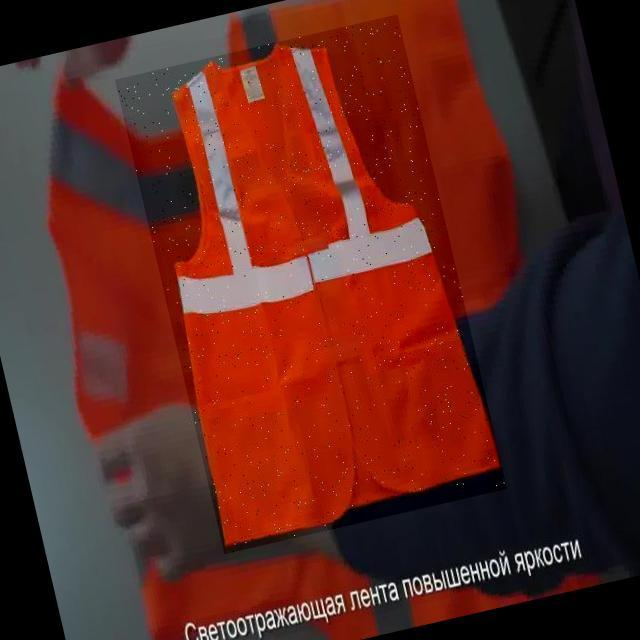Safety Vest: (115, 14, 507, 554)
bare-arms: (91, 399, 223, 586)
